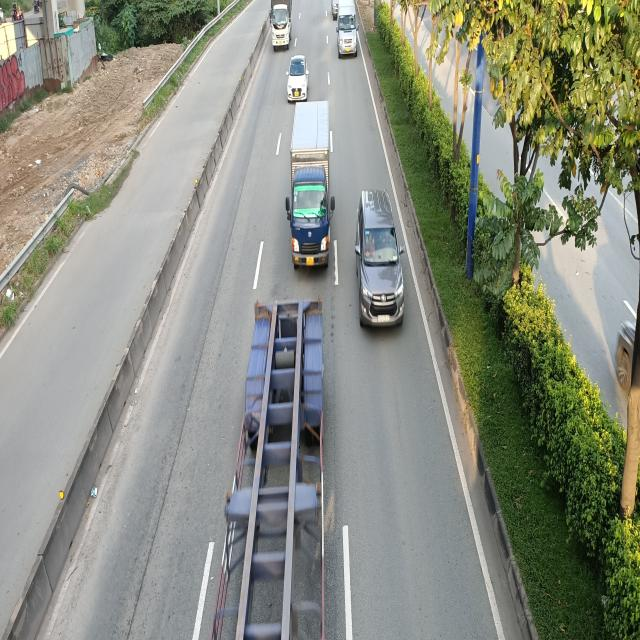car: (354, 191, 402, 331), (286, 54, 308, 102)
container: (207, 294, 325, 636)
truck: (285, 104, 334, 274), (270, 0, 293, 47)
van: (336, 0, 359, 57)
